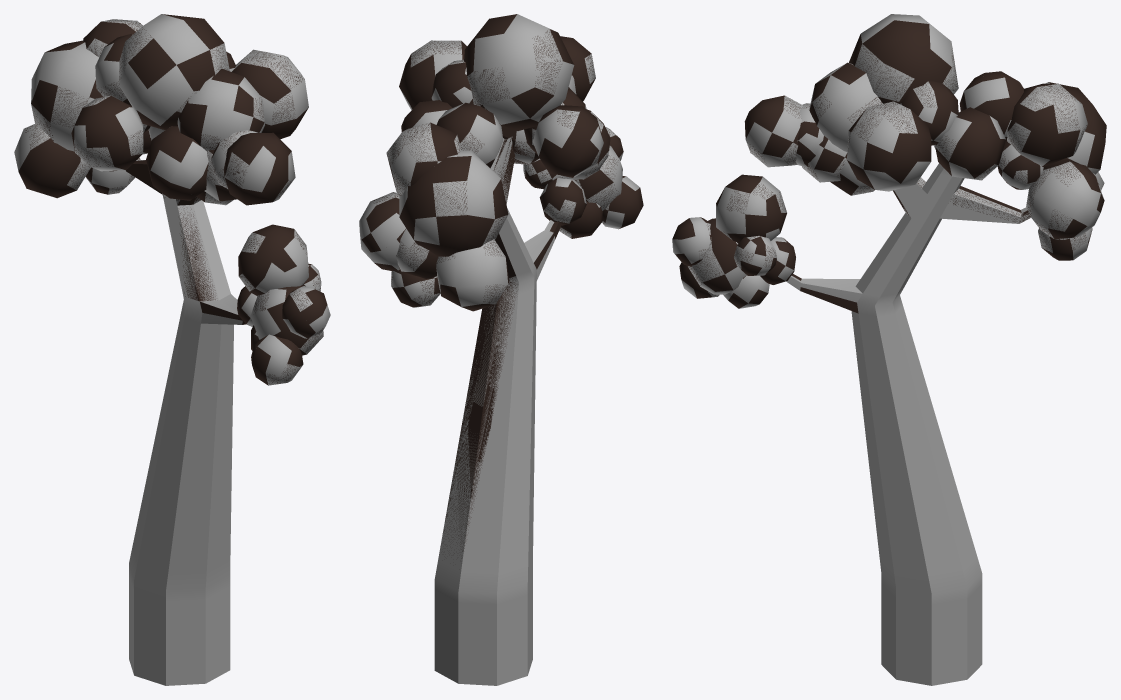
File: LowPoly_puno2.fbx
The picture shows the model from 3 angles, left to right: view 1: azimuth 30°, elevation 25°; view 2: azimuth 150°, elevation 25°; view 3: azimuth 270°, elevation 25°; orthographic projection. The views are drawn at different scales.
Visible parts, largest first — view 1: pCylinder2, pSphere27, polySurface1; view 2: polySurface1, pCylinder2, pSphere27; view 3: pCylinder2, pSphere27, polySurface1.
Boxes of the visible parts, x1,y1,x2,y2 form: pCylinder2: (125, 126, 242, 685); pSphere27: (14, 14, 330, 385); polySurface1: (18, 14, 327, 385); polySurface1: (361, 14, 643, 558); pCylinder2: (434, 136, 555, 685); pSphere27: (359, 14, 639, 307); pCylinder2: (786, 145, 1030, 685); pSphere27: (672, 14, 1104, 308); polySurface1: (672, 20, 1106, 313).
Size of what is drawn, in the model's own units: 4.73 by 13.94 by 8.61.
2 materials, 1 textured.
